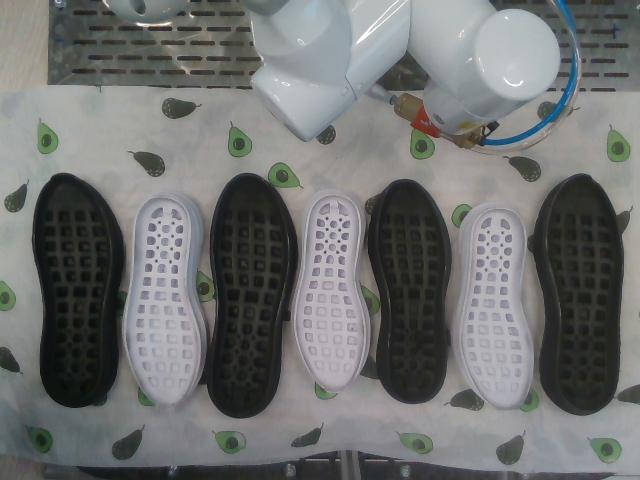shoes: (212, 175, 288, 413), (547, 176, 622, 411), (34, 175, 110, 402), (125, 198, 199, 405), (377, 182, 446, 403), (461, 208, 534, 410), (296, 195, 364, 393)
